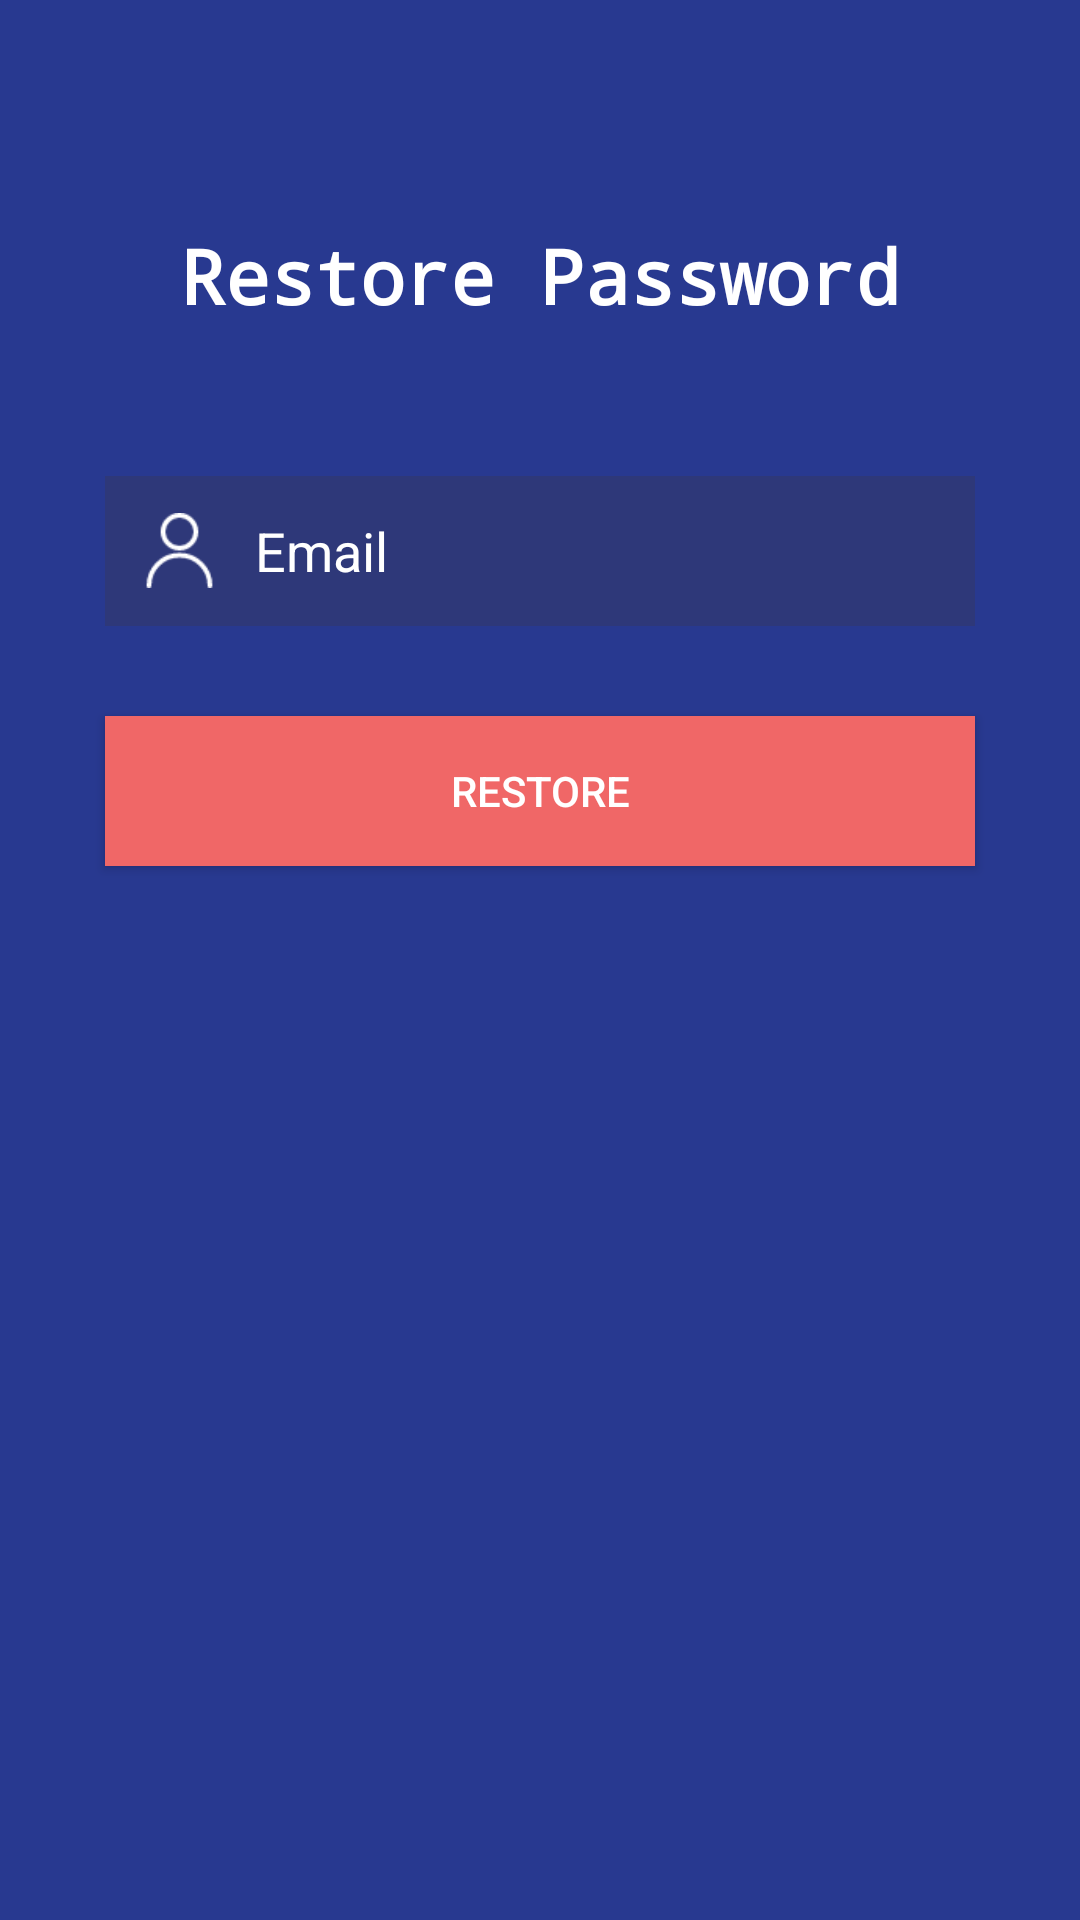

Locate icon controls on the screen. Image size 1080*1920, boxes as (left=x1, top=y1, right=x2, bottom=y2).
user: (left=146, top=513, right=213, bottom=588)
